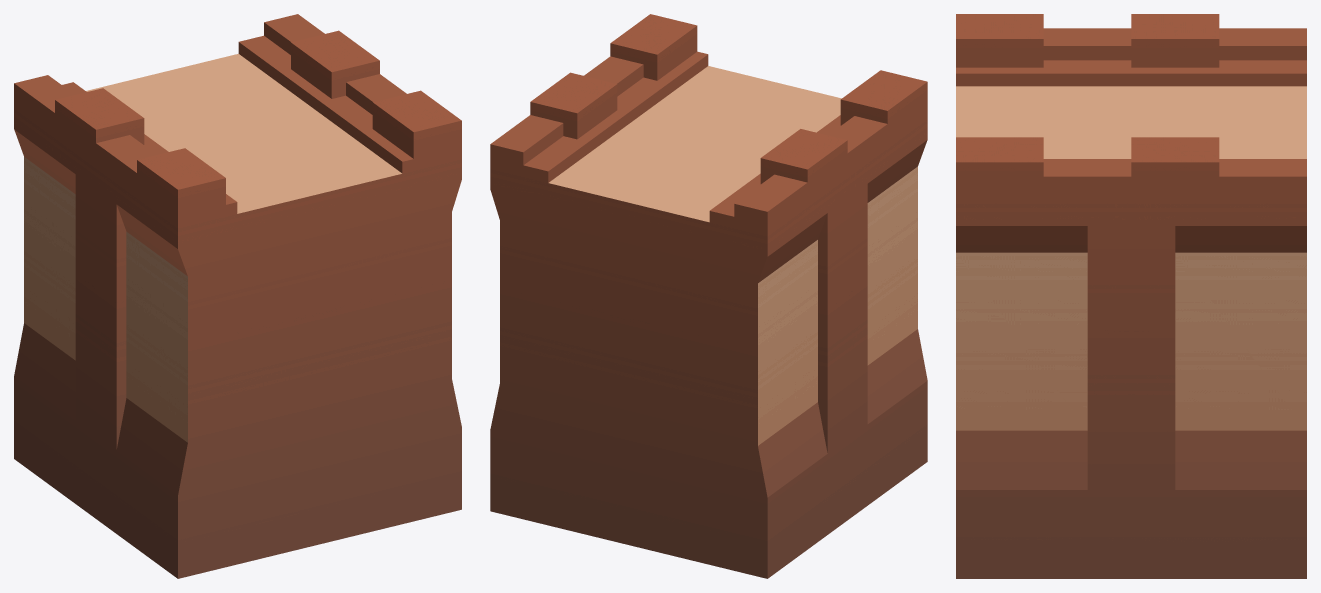
Rendered from wall-pillar.glb.
3 views of the same model, side by side, from view 1: azimuth 30°, elevation 25°; view 2: azimuth 150°, elevation 25°; view 3: azimuth 270°, elevation 25° (orthographic). The views are drawn at different scales.
Parts seen in each view (by area): view 1: wall-pillar; view 2: wall-pillar; view 3: wall-pillar.
Part boxes in pixels (<box>): wall-pillar: <box>14,14,461,578</box>; wall-pillar: <box>490,14,927,578</box>; wall-pillar: <box>956,14,1306,578</box>.
Bounding box in the file's own units: 3 × 3.93 × 3.
1 material, 1 textured.
